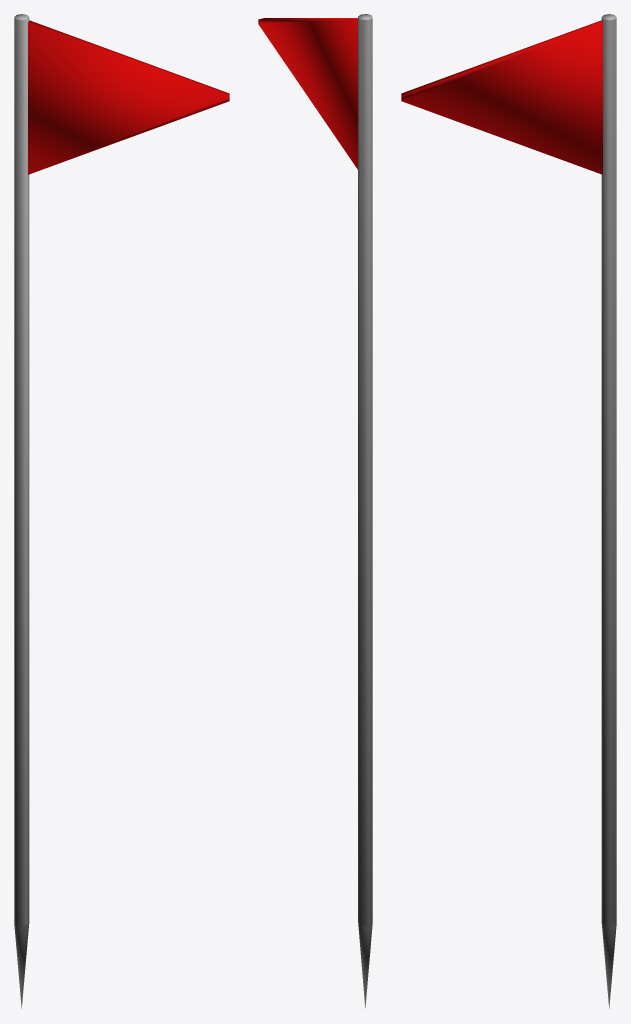
The model's file is furnishings-outdoor-flagpole_v1.glb.
3 views of the same model, side by side, from view 1: azimuth 90°, elevation 25°; view 2: azimuth 210°, elevation 25°; view 3: azimuth 270°, elevation 25° (orthographic).
Visible parts, largest first — view 1: Flagpole.001; view 2: Flagpole.001; view 3: Flagpole.001.
Boxes of the visible parts, left/top/right/bottom form: Flagpole.001: left=14, top=14, right=229, bottom=1008; Flagpole.001: left=258, top=14, right=372, bottom=1008; Flagpole.001: left=401, top=14, right=616, bottom=1008.
Bounding box in the file's own units: 0.0203 × 1.47 × 0.2896.
